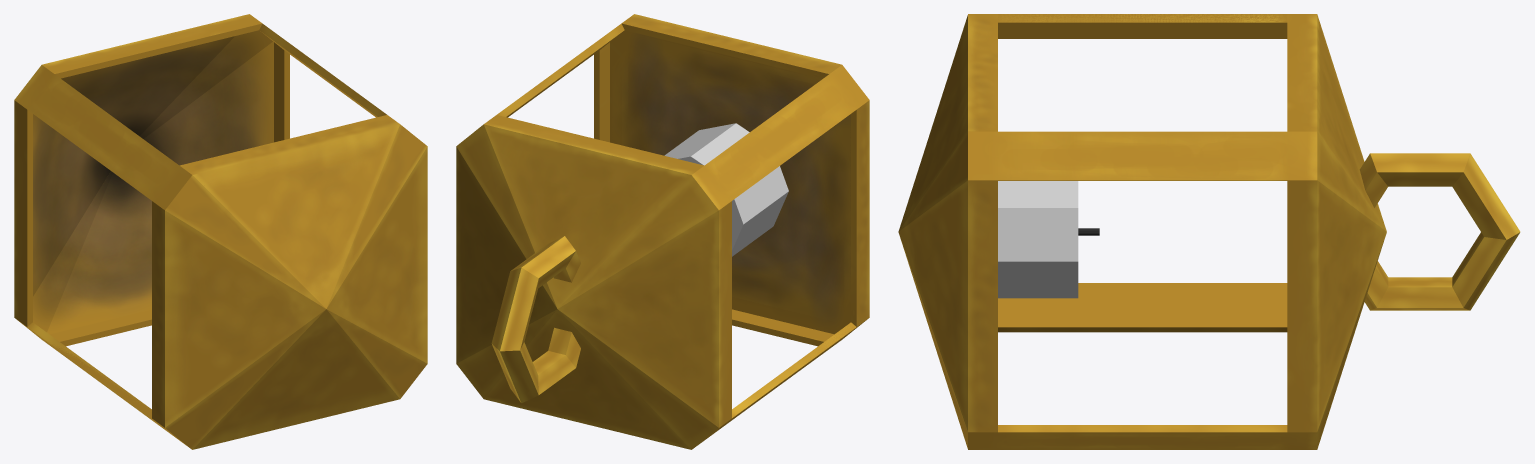
Rendered from lantern.dae.
The picture shows the model from 3 angles, left to right: view 1: azimuth 30°, elevation 25°; view 2: azimuth 150°, elevation 25°; view 3: azimuth 270°, elevation 25°; orthographic projection. The views are drawn at different scales.
Visible parts, largest first — view 1: Torus_005; view 2: Torus_005, Torus_004, Cylinder_002; view 3: Torus_005, Torus_004, Cylinder_002.
Part boxes in pixels (x1,y1,x2,y2): Torus_005: [14, 14, 427, 449]; Torus_005: [456, 14, 869, 449]; Torus_004: [491, 236, 580, 403]; Cylinder_002: [664, 123, 788, 256]; Torus_005: [898, 14, 1386, 449]; Torus_004: [1359, 153, 1520, 310]; Cylinder_002: [998, 181, 1099, 298].
Bounding box in the file's own units: 2 × 3.54 × 2.
Materials: 3 (1 with a texture image).
